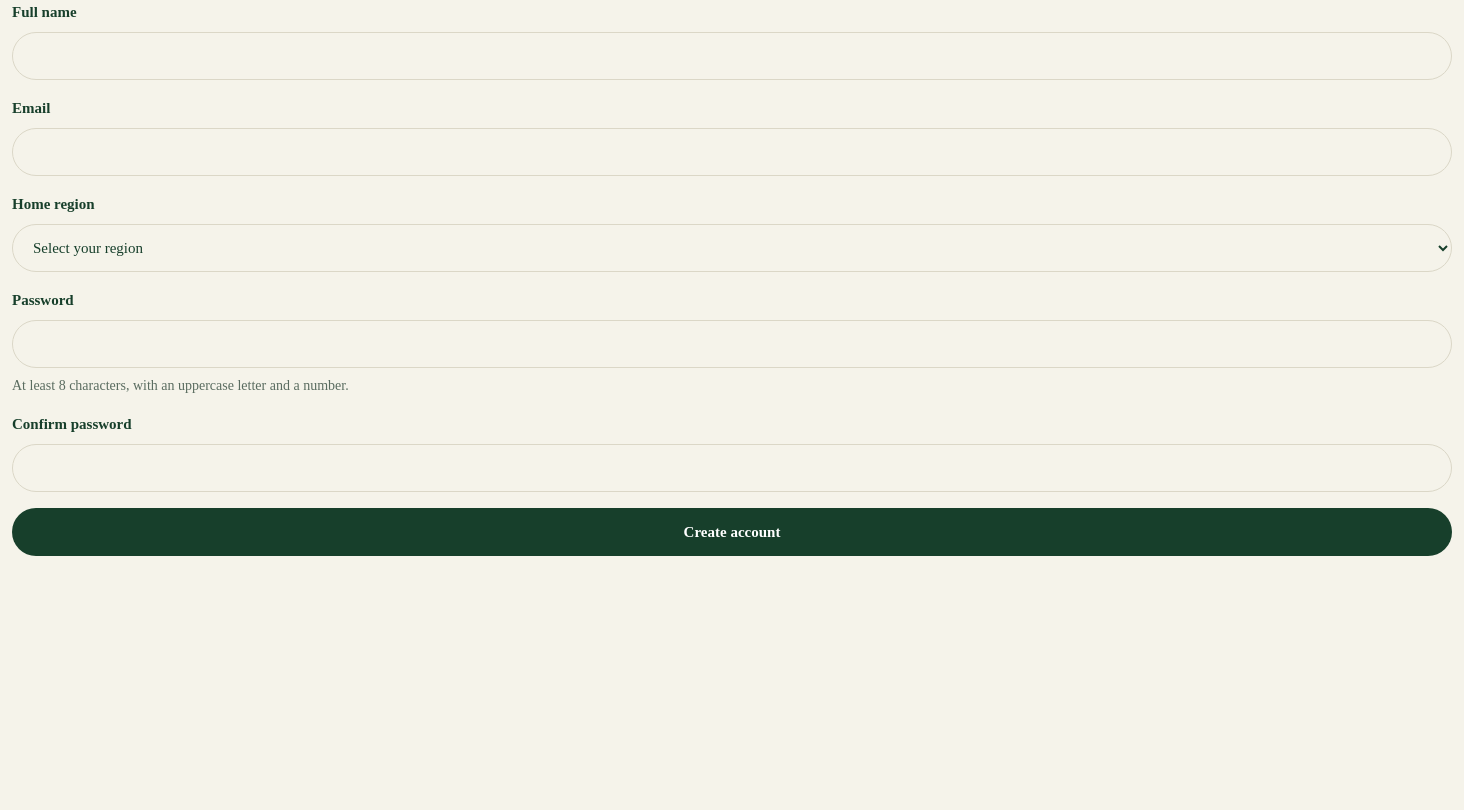
SignUpForm › requires every field
Click the button "Create account" at (732, 532), box [12, 508, 1452, 556]
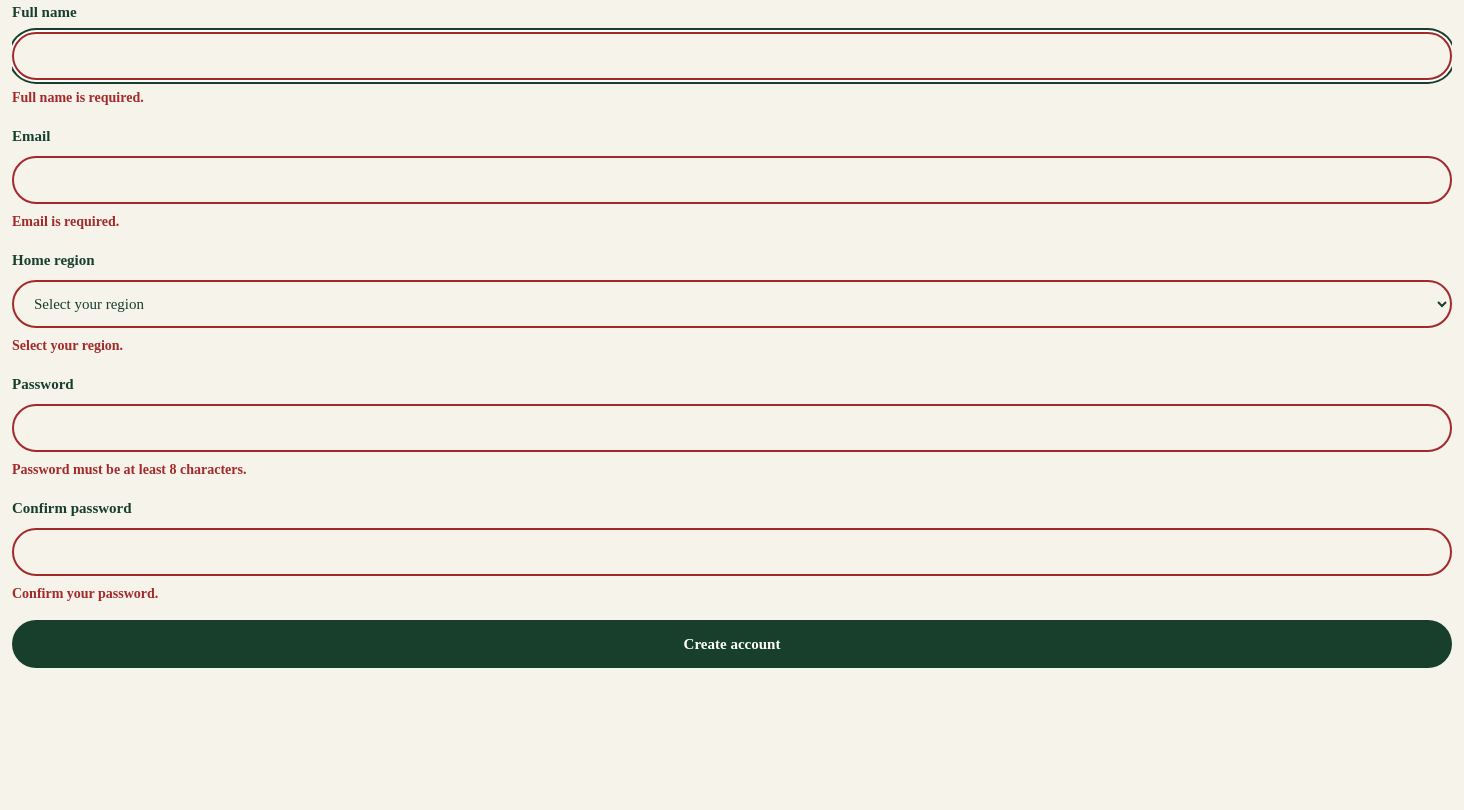
Expected: the text "Full name is required." is shown, [12, 90, 144, 105]
Expected: the text "Email is required." is shown, [12, 214, 119, 229]
Expected: the text "Select your region." is shown, [12, 338, 123, 353]
